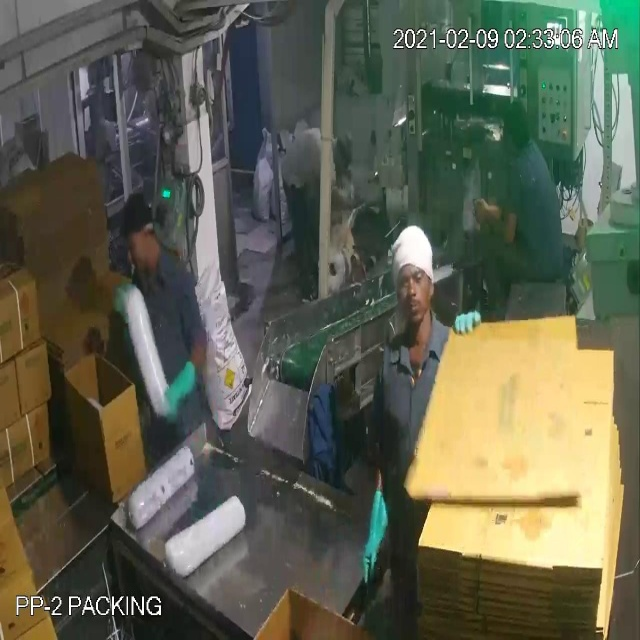Guantes: (353, 465, 393, 593), (155, 343, 204, 435), (110, 282, 143, 330)
Sin_guantes: (468, 191, 506, 231), (488, 209, 522, 251)
